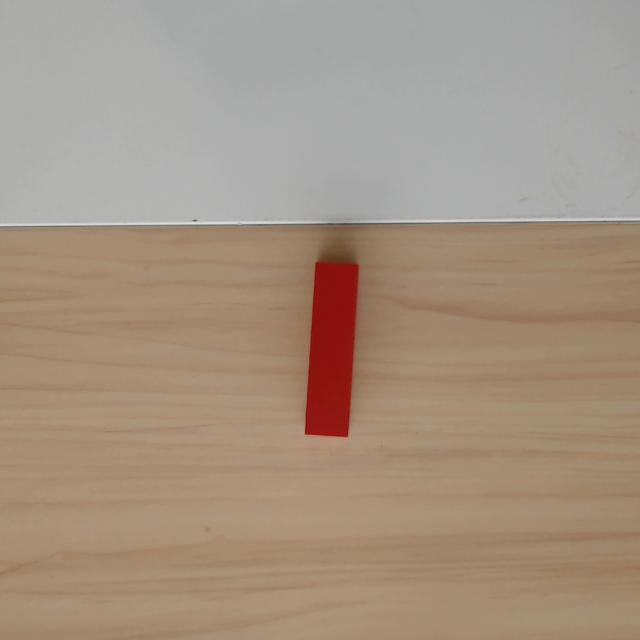Balok-Merah-1002525: (304, 262, 359, 437)
